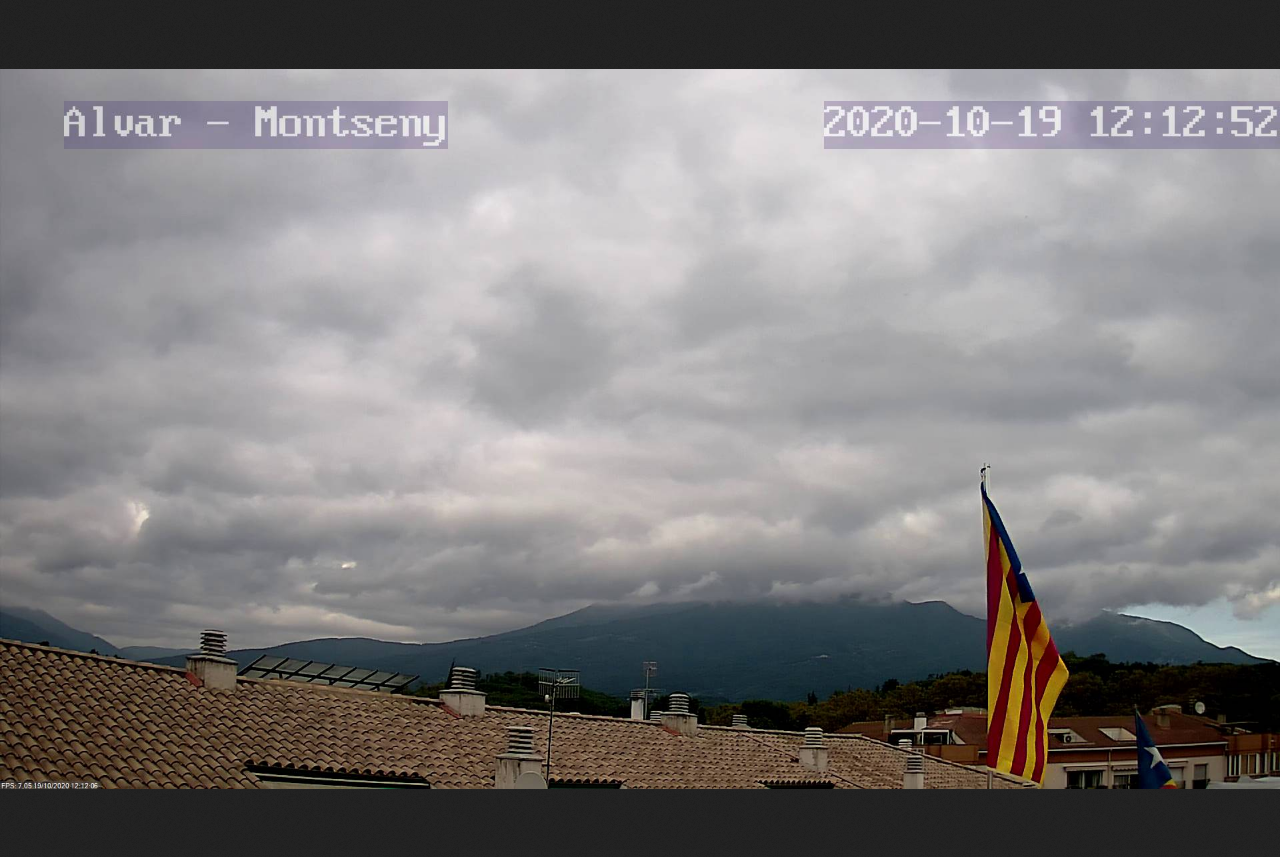no: (979, 488, 1070, 787)
